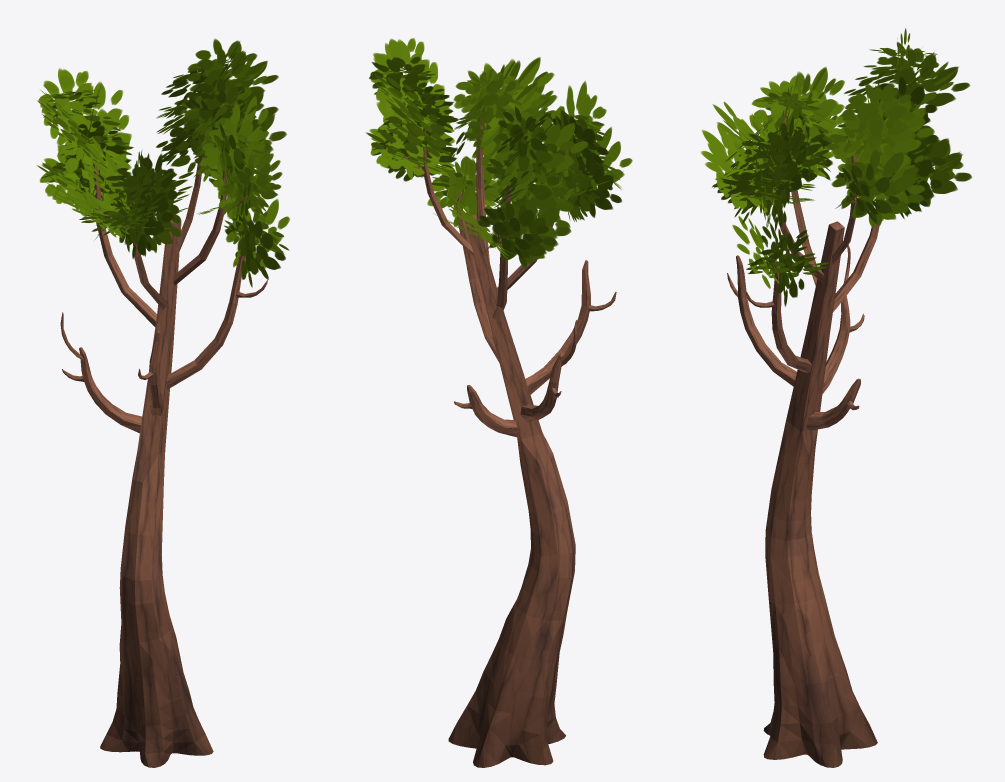
Rendered from tree-b.glb.
3 renders of one model, left to right at view 1: azimuth 30°, elevation 25°; view 2: azimuth 150°, elevation 25°; view 3: azimuth 270°, elevation 25°, orthographic. The views are drawn at different scales.
Parts seen in each view (by area): view 1: CommonTree_4; view 2: CommonTree_4; view 3: CommonTree_4.
Part boxes in pixels (left/top/right/bottom): CommonTree_4: left=37, top=39, right=289, bottom=767; CommonTree_4: left=365, top=38, right=632, bottom=767; CommonTree_4: left=700, top=28, right=971, bottom=767.
Size of the model in its own units: 3.83 by 9.44 by 3.76.
Materials: 2 (2 with a texture image).
